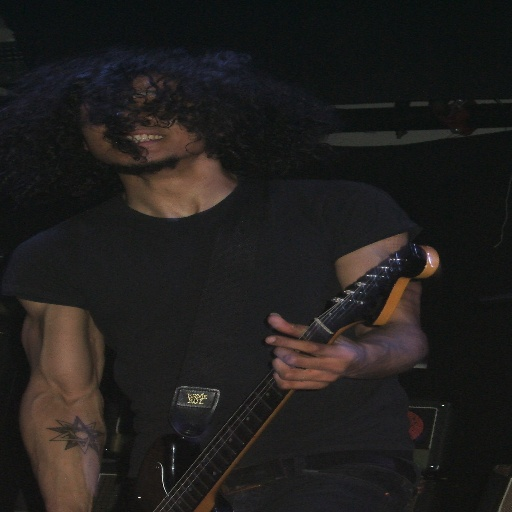hand: (264, 308, 384, 396)
